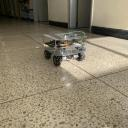cart: (42, 32, 88, 66)
